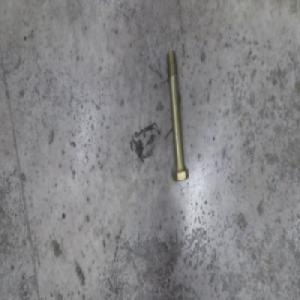Bolt: (163, 42, 189, 174)
